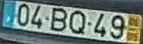0: (16, 2, 30, 28)
4: (92, 12, 106, 39), (30, 4, 43, 29)
9: (108, 14, 124, 40)
B: (49, 6, 68, 32)
Q: (67, 9, 86, 36)
